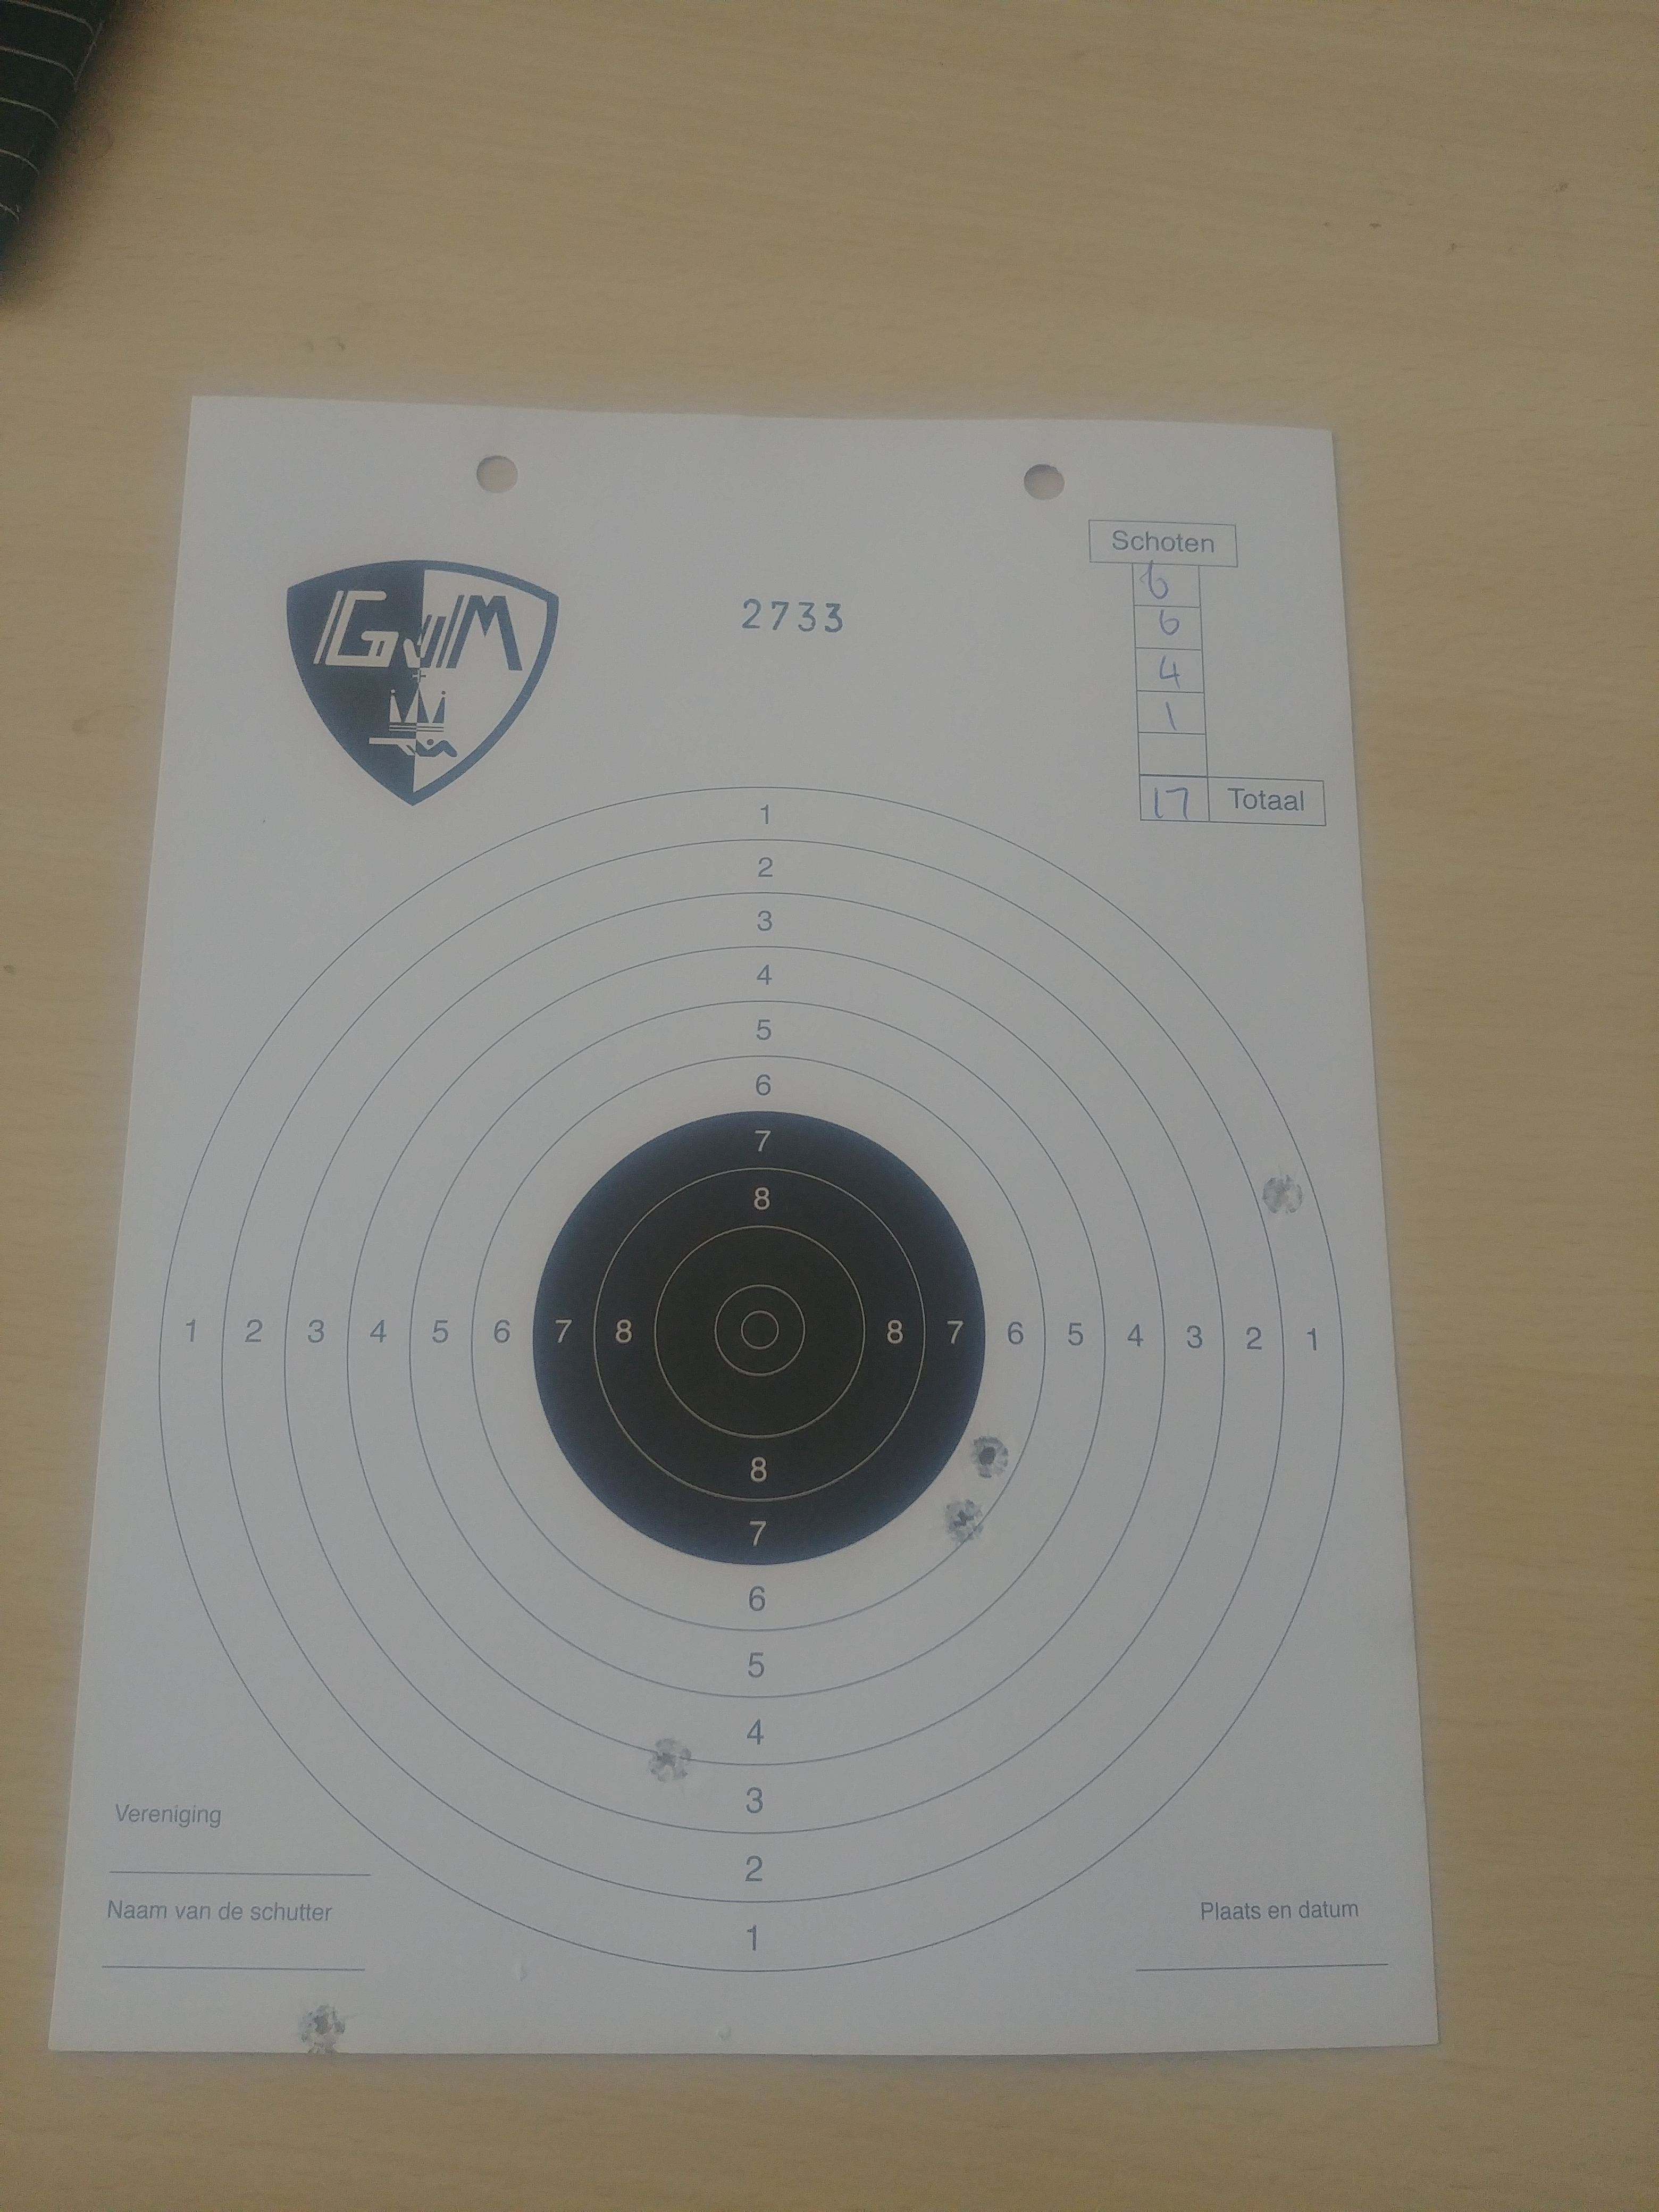center: (532, 1109, 986, 1568)
out: (157, 786, 1345, 1973)
shot: (293, 2001, 349, 2054), (647, 1737, 694, 1785), (943, 1494, 983, 1547), (1262, 1174, 1303, 1217), (971, 1433, 1007, 1482)
target: (716, 1285, 805, 1376)
